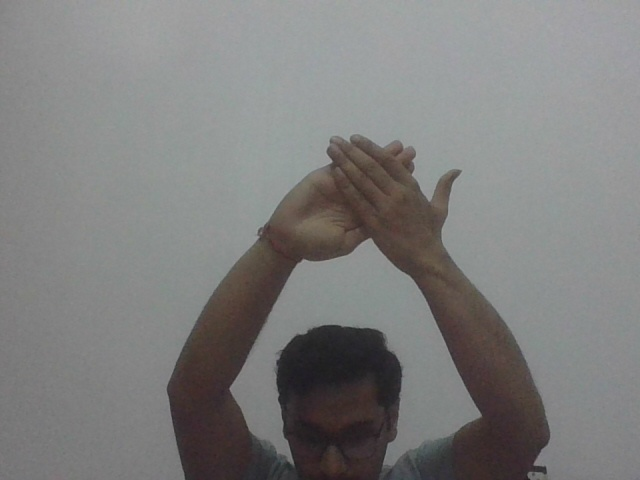H: (269, 131, 464, 269)
